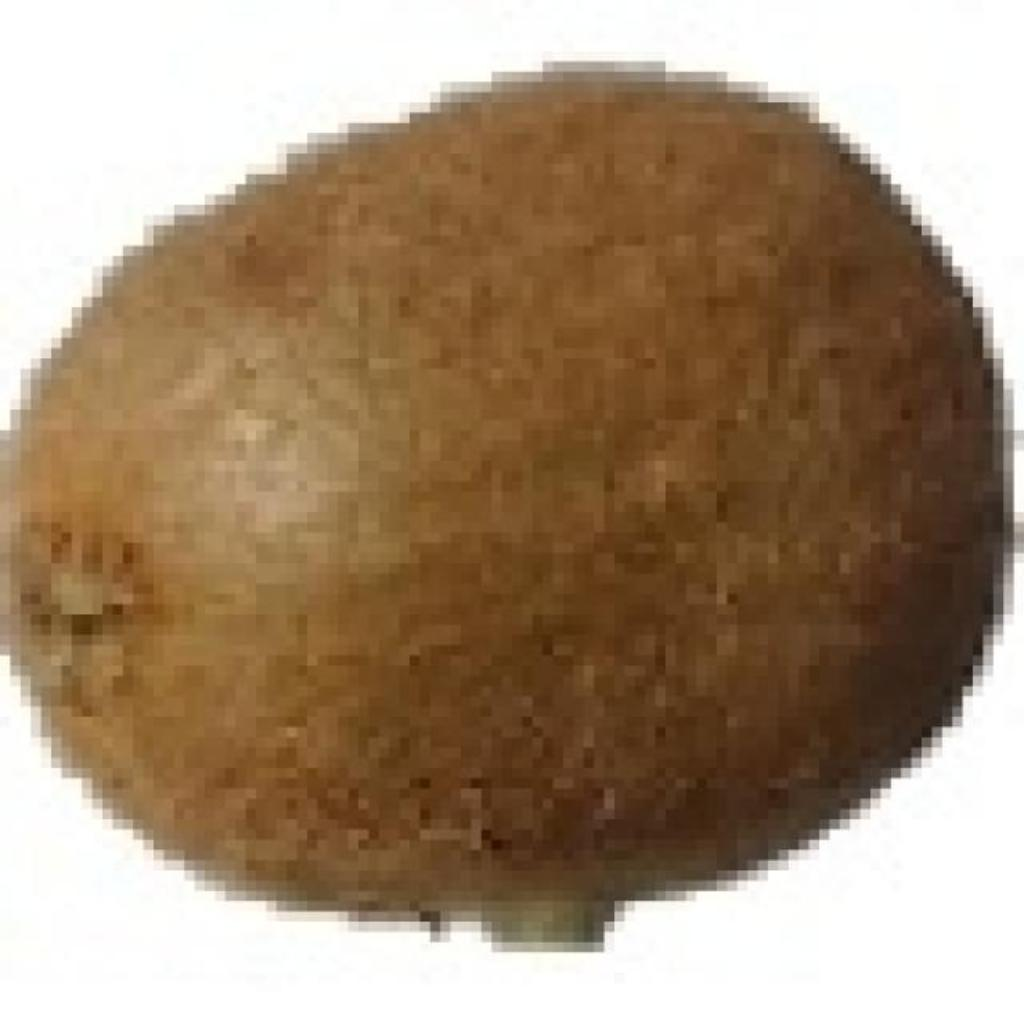kiwi: (10, 61, 983, 922)
